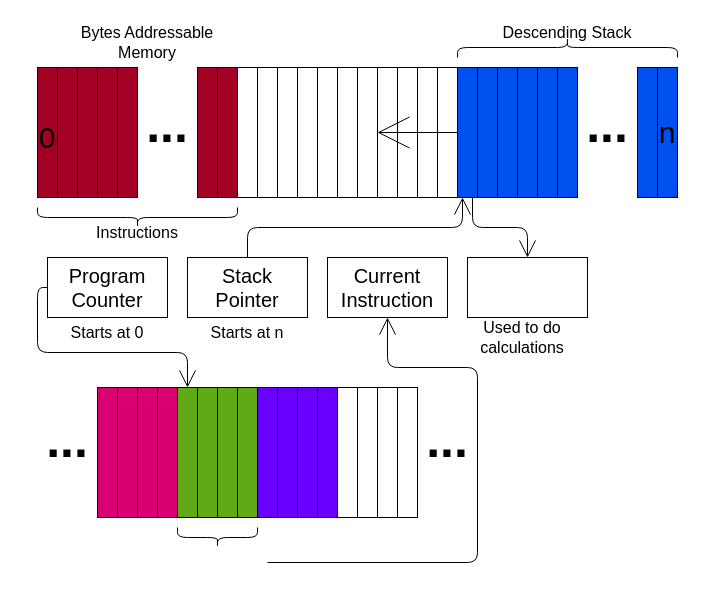
This 714x598 diagram has some shape labels left out. The shapes that lost their labels are listed below. From the top down, each one's centre as x and y in pixels, then its label:
point (527, 287): Temporary Register
point (217, 537): 4 byte instructions
